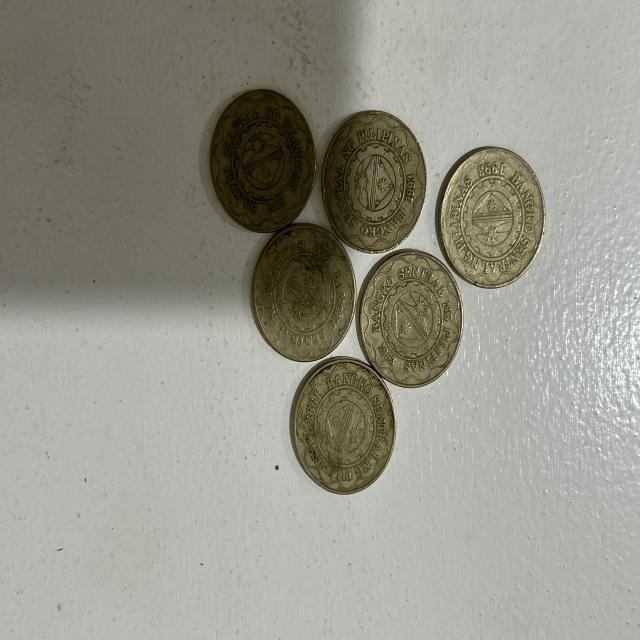5_Old_Back: (282, 348, 401, 494), (435, 137, 544, 288), (321, 104, 426, 255), (250, 214, 357, 362), (207, 89, 312, 230), (359, 261, 466, 381)
